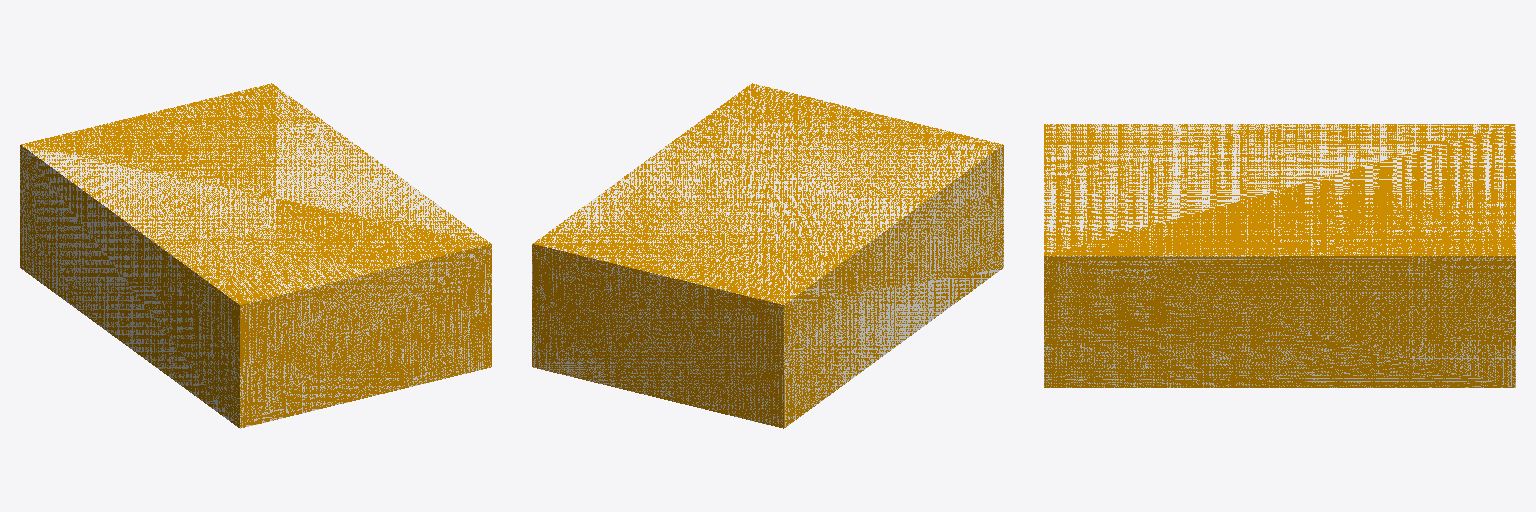
The robot description file, URDF, robot "my_object":
<?xml version="1.0" ?> 
<robot name="my_object" static="true">
  <link name="base_link">
	  <inertial>
	    <mass value="0.05" />
	    <origin xyz="0 0 0.0" />
	    <inertia ixx="1.0" ixy="0.0" ixz="0.0" iyy="1.0" iyz="0.0" izz="1.0"/>
	  </inertial>

	  <visual>
	   <origin xyz="0 0 0.0" rpy="0 0 0" />
	   <geometry>
	     <mesh filename="package://gazebo_objects/Media/models/corrogated_box.dae" scale="1.5 1.5 1"/>    
	   </geometry>
	  </visual>

	  <collision>
	   <origin xyz="0 0 0.0" rpy="0 0 0" />
	   <geometry>
	     <mesh filename="package://gazebo_objects/Media/models/corrogated_box.dae" scale="1.5 1.5 1"/>>   
	   </geometry>
	  </collision>     
  </link>


<gazebo>
	<static>false</static>
</gazebo>
</robot>

--- Render facts (derived) ---
3 views of the same robot in one strip: view 1: azimuth 30°, elevation 25°; view 2: azimuth 150°, elevation 25°; view 3: azimuth 270°, elevation 25° (orthographic).
Robot: my_object — 1 links, 0 joints (none); root link base_link; default pose: every joint at zero.
Visible links, largest first — view 1: base_link; view 2: base_link; view 3: base_link.
Boxes of the visible links, left/top/right/bottom form: base_link: left=20, top=83, right=491, bottom=428; base_link: left=532, top=83, right=1003, bottom=428; base_link: left=1044, top=124, right=1515, bottom=387.
Bounding box of the posed robot: 0.2974 × 0.4493 × 0.1396 m (x, y, z).
1 mesh visuals loaded from 1 distinct referenced files (1 Collada DAE).